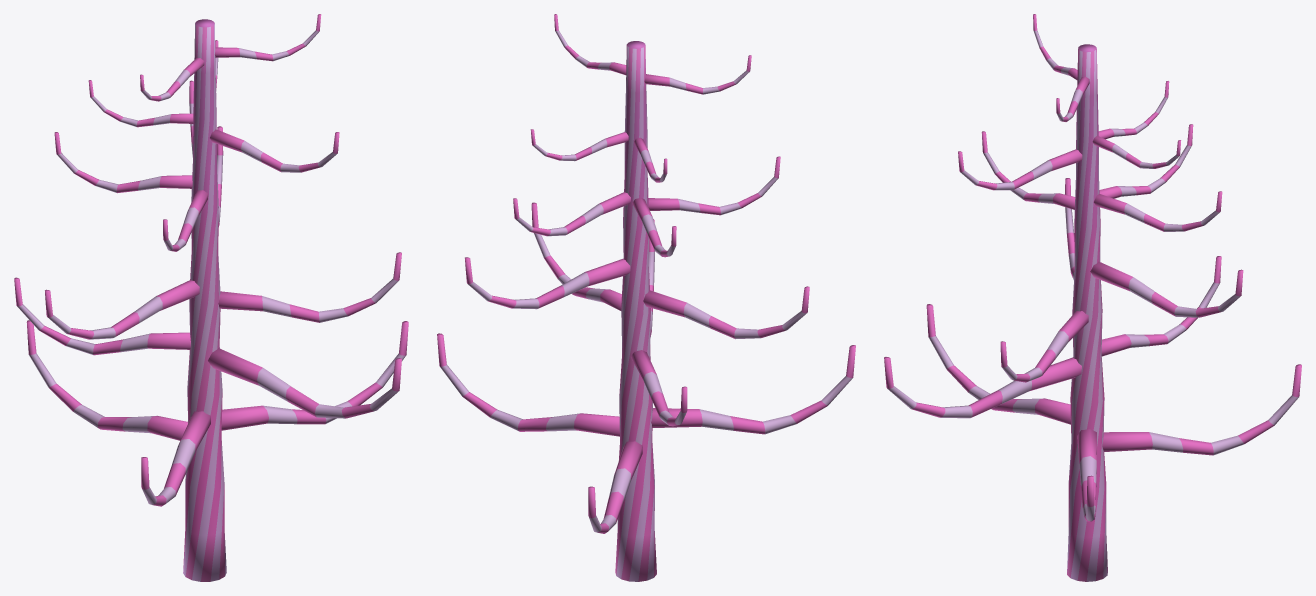
File: cw_tree_3.fbx
3 renders of one model, left to right at view 1: azimuth 30°, elevation 25°; view 2: azimuth 150°, elevation 25°; view 3: azimuth 270°, elevation 25°, orthographic. The views are drawn at different scales.
Parts seen in each view (by area): view 1: cw_t_3; view 2: cw_t_3; view 3: cw_t_3.
Boxes of the visible parts, x1=… form: cw_t_3: x1=14, y1=14, x2=408, y2=581; cw_t_3: x1=437, y1=14, x2=855, y2=581; cw_t_3: x1=884, y1=14, x2=1301, y2=581.
Size of the model in its own units: 143 by 200 by 144.
